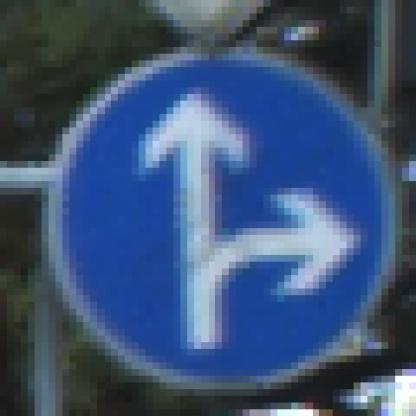Straight or Right: (43, 42, 382, 384)
